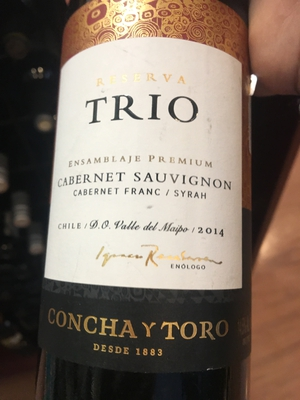trio cabernet sauvignon: (31, 1, 252, 388)
